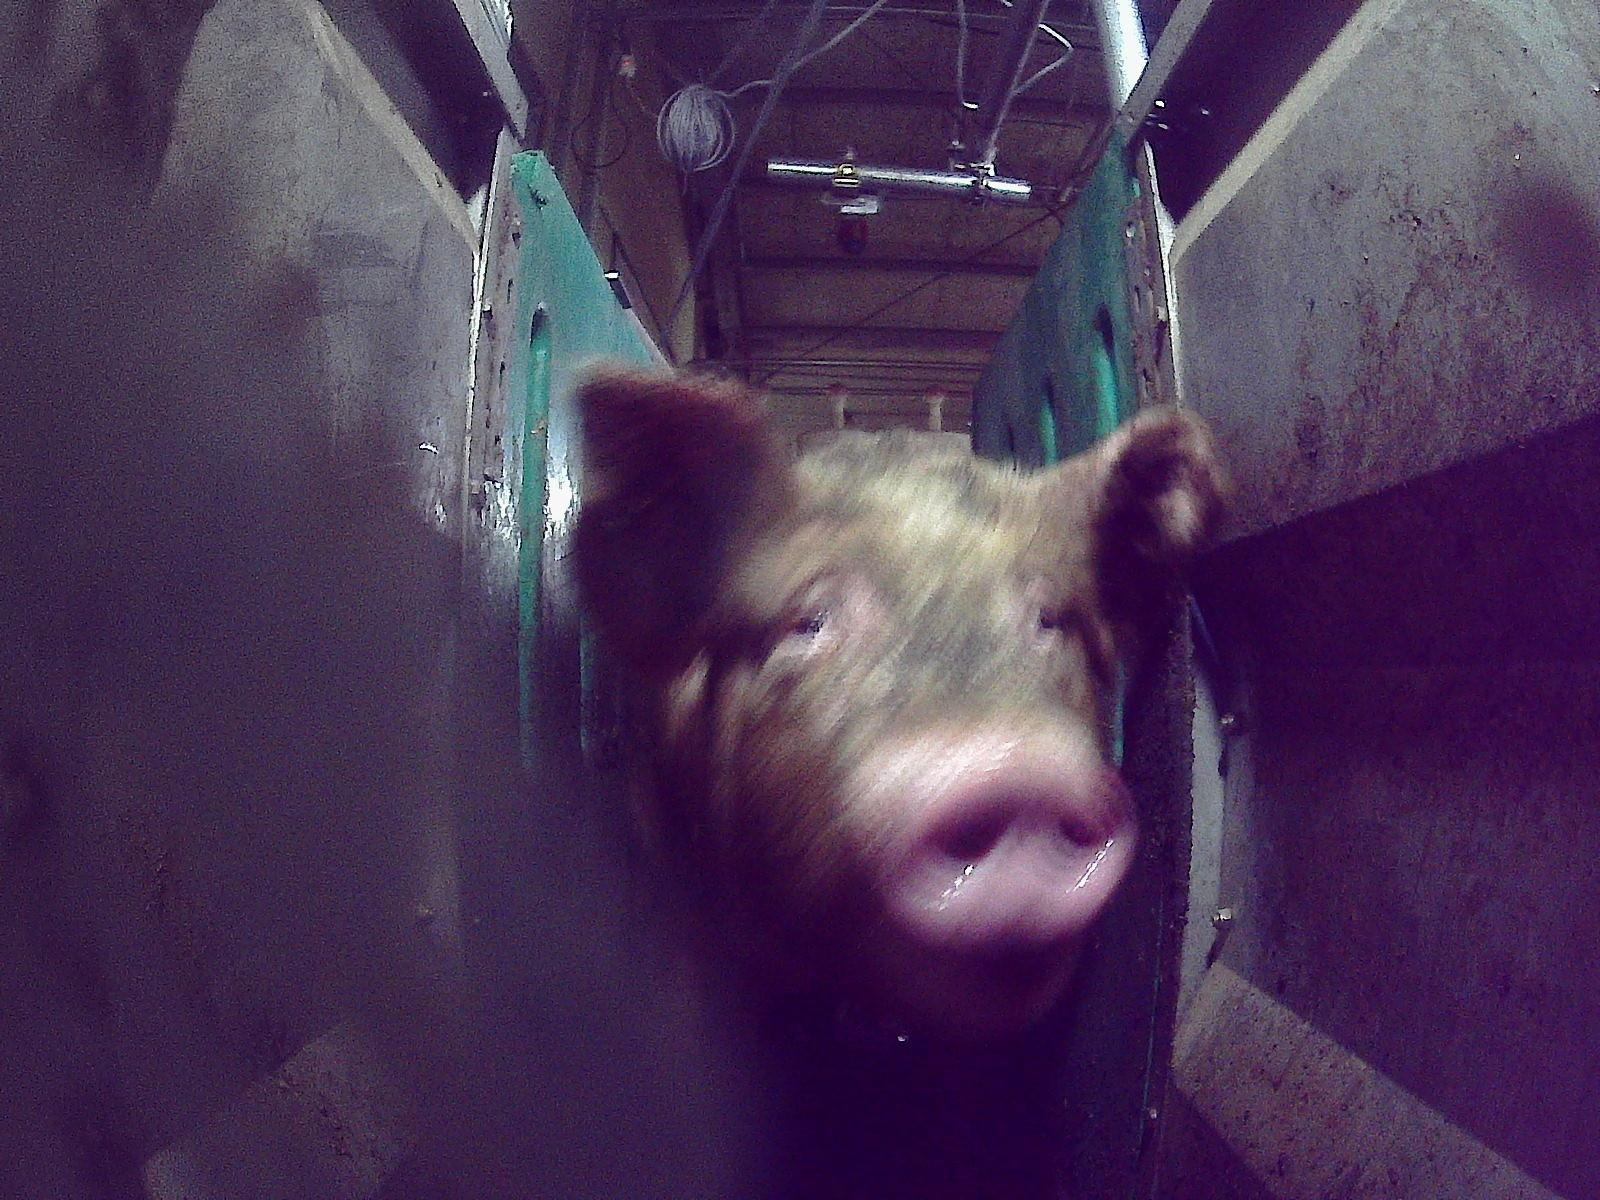Face: (688, 440, 1138, 1027)
